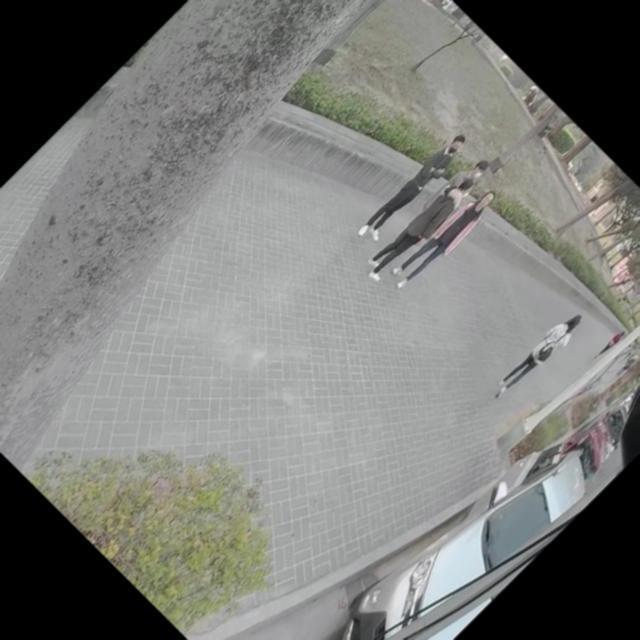person: (354, 128, 472, 246), (358, 169, 474, 284), (386, 182, 501, 296), (487, 304, 588, 405), (455, 151, 490, 186)
